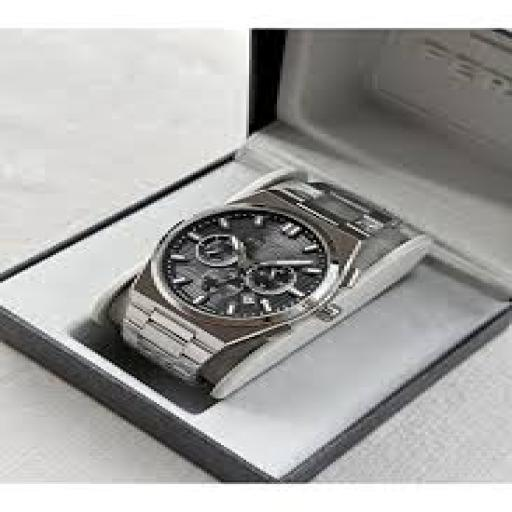KolSaati: (82, 163, 440, 400)
